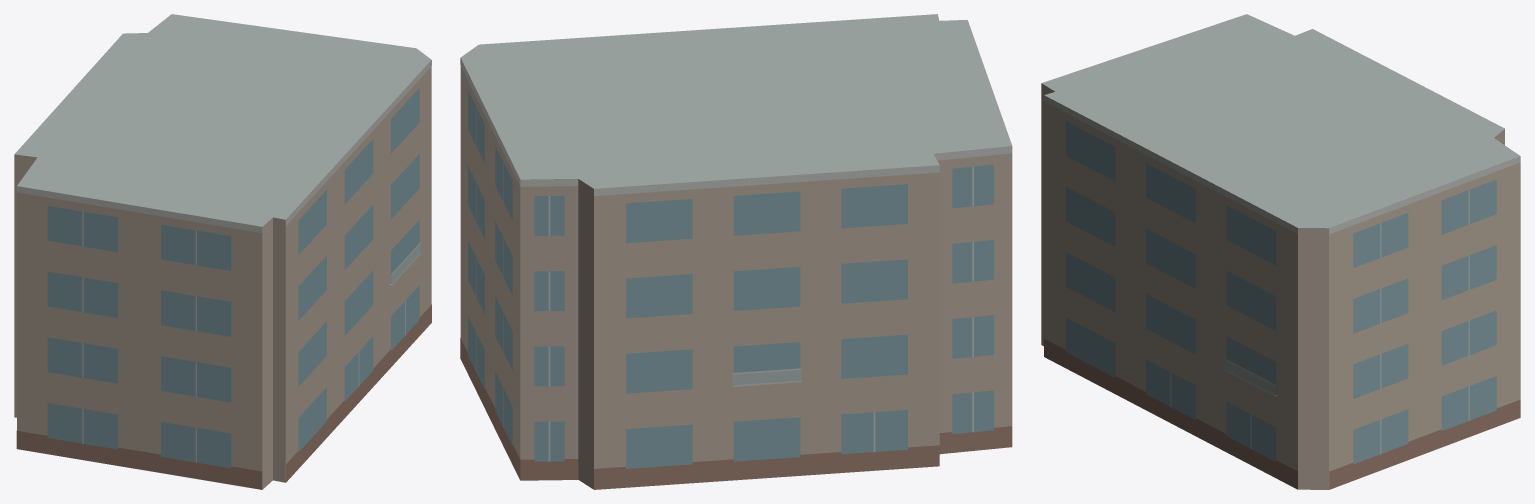
File: survey-upis-32744849.glb
3 renders of one model, left to right at view 1: azimuth 30°, elevation 25°; view 2: azimuth 150°, elevation 25°; view 3: azimuth 270°, elevation 25°, orthographic. The views are drawn at different scales.
Visible parts, largest first — view 1: survey-upis-32744849.tmp; view 2: survey-upis-32744849.tmp; view 3: survey-upis-32744849.tmp.
Boxes of the visible parts, x1,y1,x2,y2 form: survey-upis-32744849.tmp: (14, 14, 431, 489); survey-upis-32744849.tmp: (460, 14, 1012, 489); survey-upis-32744849.tmp: (1041, 14, 1520, 489).
Size of the model in its own units: 17.69 by 10.08 by 16.74.
